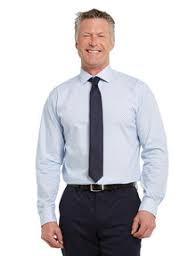F_belt: (63, 178, 142, 198)
F_shirt: (24, 63, 171, 212)
F_tie: (84, 75, 108, 184)
